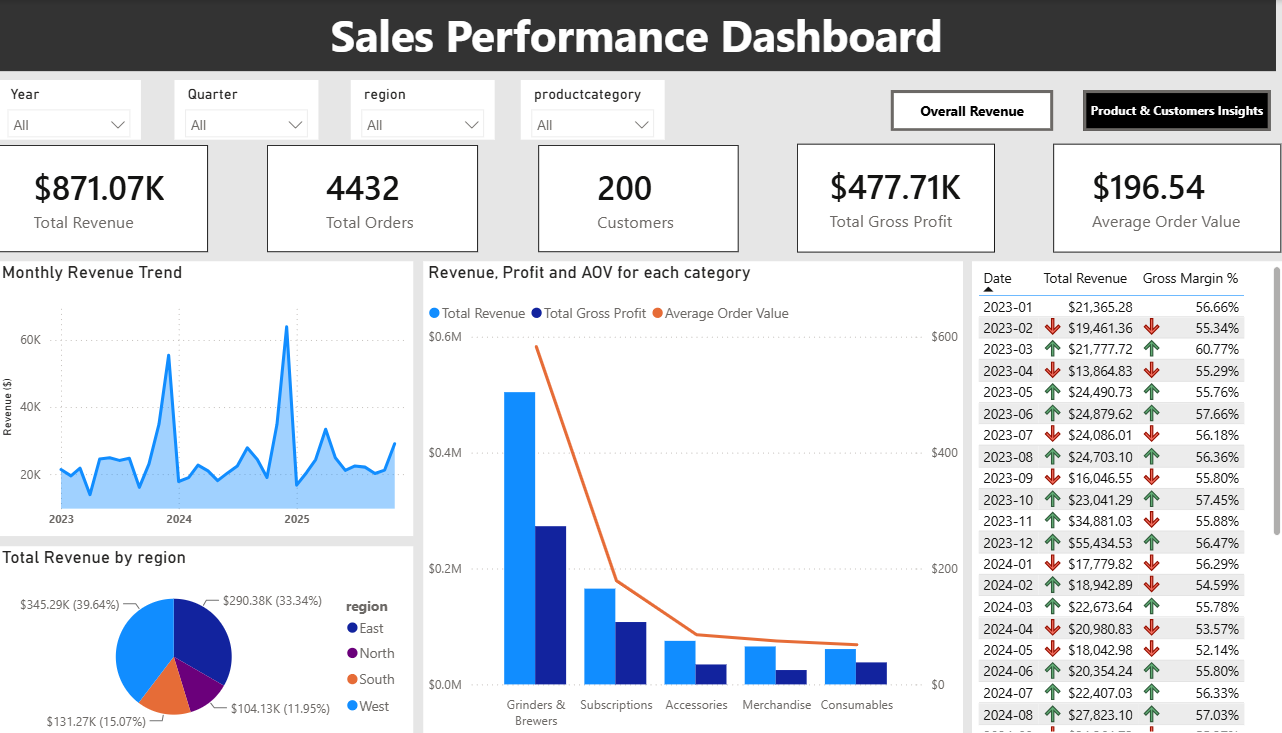

Layout of this report page (visuals, bound fields, positions):
{"tool":"powerbi","page":{"name":"Overall Revenue","canvas":[1280,720],"ordinal":0},"visuals":[{"type":"textbox","box":[9.8,0,1251,69.7],"z":0},{"type":"cardVisual","fields":{"Data":["vw_full_orders.Total Revenue"]},"box":[9.8,141.8,206.7,121.1],"z":1000},{"type":"cardVisual","fields":{"Data":["vw_full_orders.Total Orders"]},"box":[274.2,141.8,206.7,121.1],"z":2000},{"type":"cardVisual","fields":{"Data":["Count(vw_full_orders.customerid)"]},"box":[538.7,141.8,195.7,122.3],"z":3000},{"type":"cardVisual","fields":{"Data":["vw_full_orders.Total Gross Profit"]},"box":[792.1,140.6,193.2,122.3],"z":4000},{"type":"cardVisual","fields":{"Data":["vw_full_orders.Average Order Value"]},"box":[1043.1,140.6,223.8,122.3],"z":5000},{"type":"areaChart","title":"Monthly Revenue Trend","fields":{"Category":["Calendar.Year-Month"],"Y":["Sum(vw_full_orders.revenue)"]},"box":[9.8,280,407.2,225],"z":7000},{"type":"columnChart","fields":{"Category":["vw_full_orders.productcategory"],"Y":["vw_full_orders.Total Revenue"]},"box":[426.8,280,387.6,418.2],"z":8000},{"type":"pieChart","fields":{"Category":["vw_full_orders.region"],"Y":["vw_full_orders.Total Revenue"]},"box":[9.8,514.8,407.2,183.4],"z":9000},{"type":"slicer","fields":{"Values":["Calendar.Year"]},"box":[9.8,78.3,140.6,58.7],"z":10000},{"type":"slicer","fields":{"Values":["Calendar.Month"]},"box":[182.8,78.3,140.6,58.7],"z":11000},{"type":"slicer","fields":{"Values":["vw_full_orders.region"]},"box":[355.8,78.3,140.6,58.7],"z":12000},{"type":"tableEx","fields":{"Values":["Calendar.Year-Month","vw_full_orders.Total Revenue","vw_full_orders.Total Gross Profit","vw_full_orders.Gross Margin %"]},"box":[823,280,443.9,418.2],"z":13000},{"type":"actionButton","title":"Overall Revenue","box":[884.1,88,159,40.4],"z":14000},{"type":"actionButton","title":"Product & Customers","box":[1072.4,88,183.4,40.4],"z":15000}]}

Visuals, with their boxes in screenshot pixels (x1, y1, x2, y2), scaled from the page's 1280x720 canvas onto the 1282x733 screenshot:
textbox: box(10, 0, 1263, 71)
cardVisual - vw_full_orders.Total Revenue: box(10, 144, 217, 268)
cardVisual - vw_full_orders.Total Orders: box(275, 144, 482, 268)
cardVisual - Count(vw_full_orders.customerid): box(540, 144, 736, 269)
cardVisual - vw_full_orders.Total Gross Profit: box(793, 143, 987, 268)
cardVisual - vw_full_orders.Average Order Value: box(1045, 143, 1269, 268)
"Monthly Revenue Trend" areaChart: box(10, 285, 418, 514)
columnChart - vw_full_orders.productcategory x vw_full_orders.Total Revenue: box(427, 285, 816, 711)
pieChart - vw_full_orders.region x vw_full_orders.Total Revenue: box(10, 524, 418, 711)
slicer - Calendar.Year: box(10, 80, 151, 139)
slicer - Calendar.Month: box(183, 80, 324, 139)
slicer - vw_full_orders.region: box(356, 80, 497, 139)
tableEx - Calendar.Year-Month x vw_full_orders.Total Revenue: box(824, 285, 1269, 711)
"Overall Revenue" actionButton: box(885, 90, 1045, 131)
"Product & Customers" actionButton: box(1074, 90, 1258, 131)
